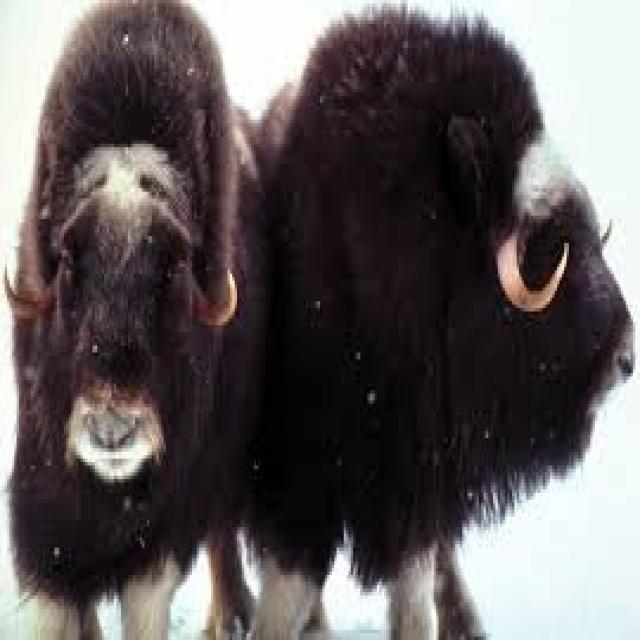Ox: (257, 10, 640, 640), (0, 0, 261, 640)
